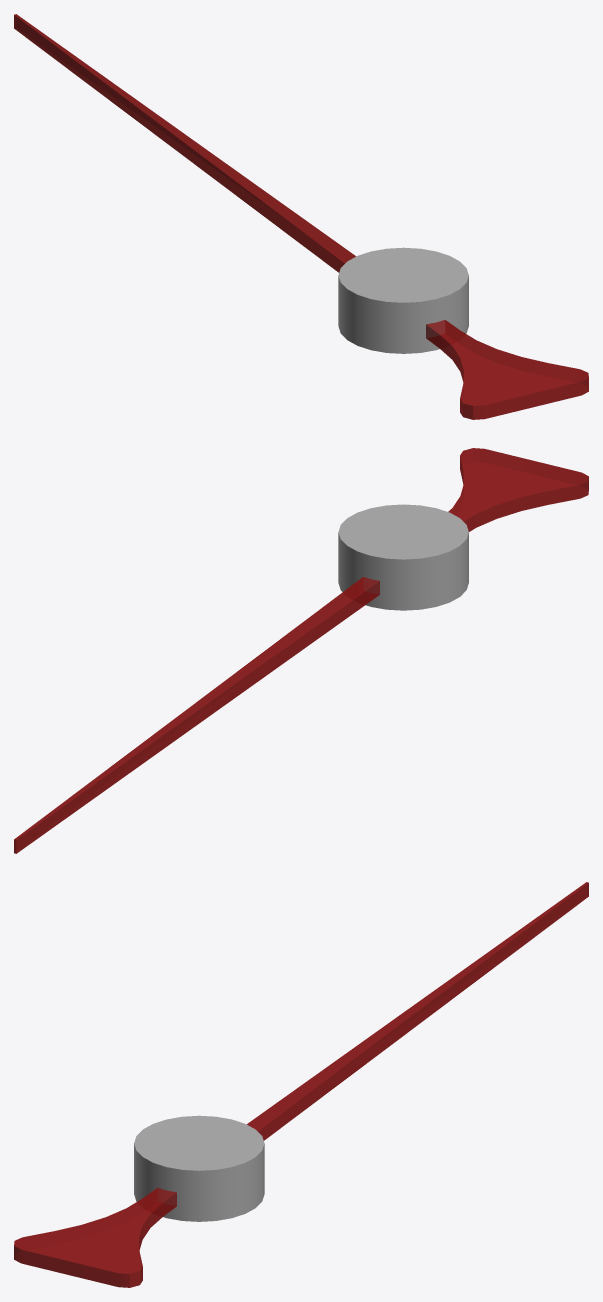
File: needle_6.dae
The picture shows the model from 3 angles, top to bottom: view 1: azimuth 30°, elevation 25°; view 2: azimuth 150°, elevation 25°; view 3: azimuth 330°, elevation 25°; orthographic projection.
Parts seen in each view (by area): view 1: qt_gauge_needles_6; view 2: qt_gauge_needles_6; view 3: qt_gauge_needles_6.
Part boxes in pixels (<box>): qt_gauge_needles_6: <box>14,14,588,419</box>; qt_gauge_needles_6: <box>14,448,588,853</box>; qt_gauge_needles_6: <box>14,882,588,1287</box>.
Size of the model in its own units: 2.23 by 0.8709 by 16.
